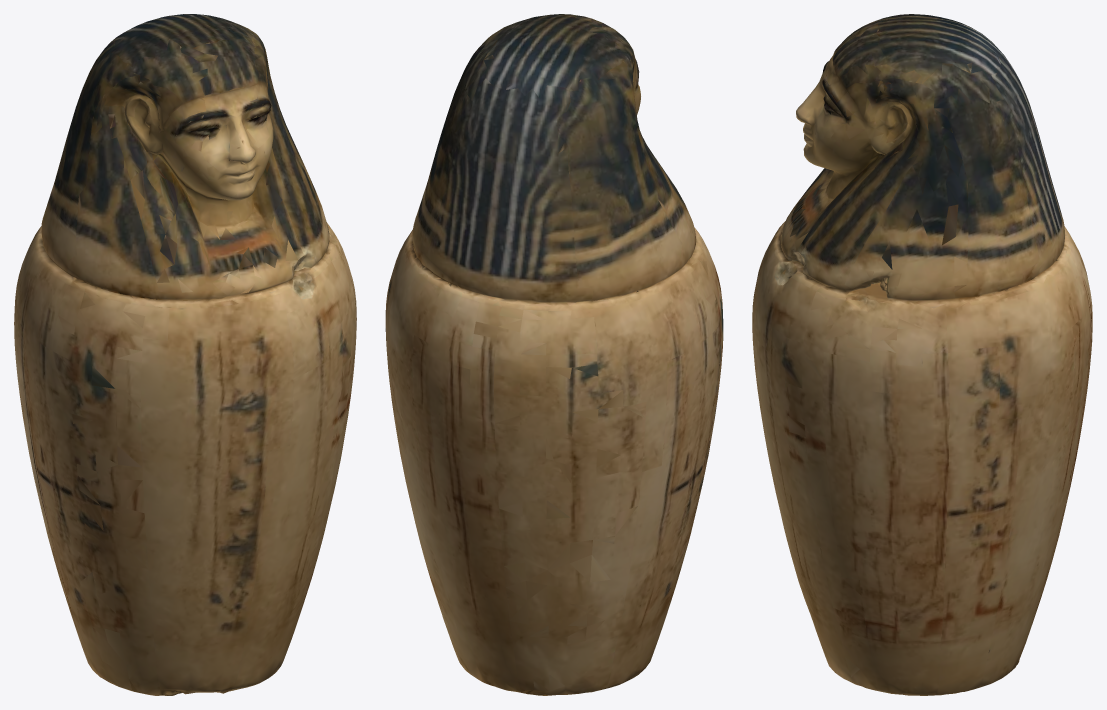
Rendered from canopic_imsety.glb.
3 renders of one model, left to right at view 1: azimuth 30°, elevation 25°; view 2: azimuth 150°, elevation 25°; view 3: azimuth 270°, elevation 25°, orthographic.
Parts seen in each view (by area): view 1: prop; view 2: prop; view 3: prop.
Boxes of the visible parts, <box> form: prop: <box>14,14,356,695</box>; prop: <box>385,14,723,695</box>; prop: <box>752,14,1092,695</box>.
Bounding box in the file's own units: 0.1959 × 0.4 × 0.1959.
1 material, 1 textured.
